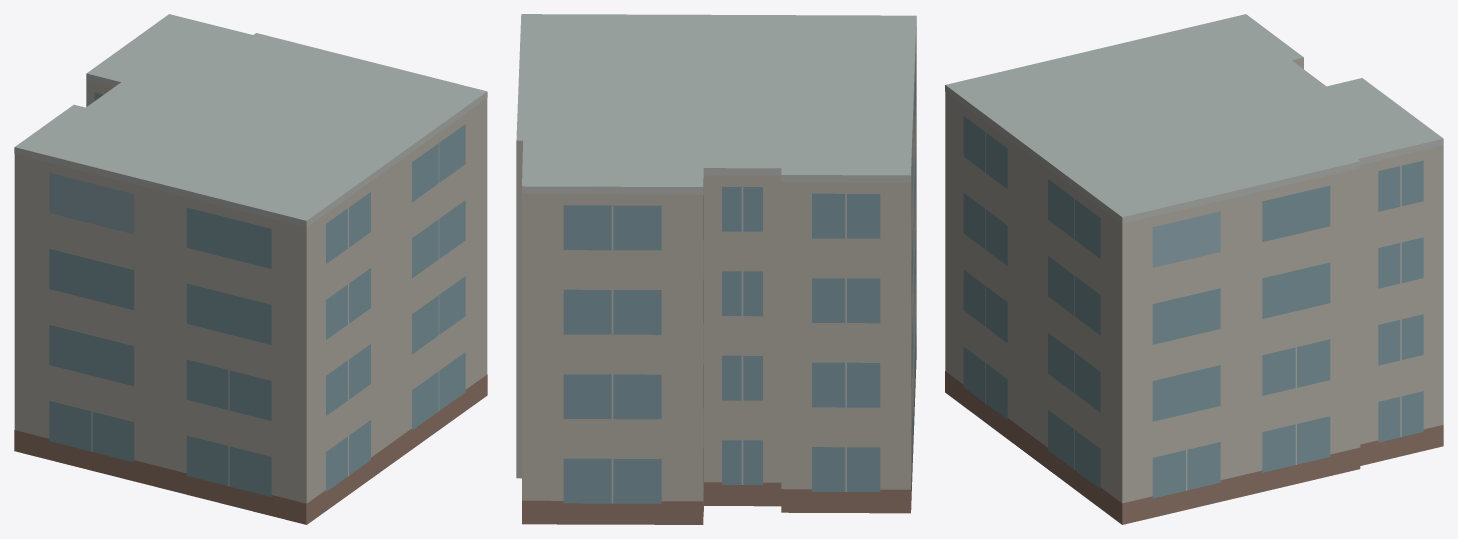
The model's file is survey-upis-32683267.glb.
3 renders of one model, left to right at view 1: azimuth 30°, elevation 25°; view 2: azimuth 150°, elevation 25°; view 3: azimuth 270°, elevation 25°, orthographic. The views are drawn at different scales.
Parts seen in each view (by area): view 1: survey-upis-32683267.tmp; view 2: survey-upis-32683267.tmp; view 3: survey-upis-32683267.tmp.
Boxes of the visible parts, left/top/right/bottom form: survey-upis-32683267.tmp: left=14, top=14, right=487, bottom=524; survey-upis-32683267.tmp: left=516, top=14, right=916, bottom=524; survey-upis-32683267.tmp: left=945, top=14, right=1443, bottom=524.
Bounding box in the file's own units: 15.87 × 11.19 × 16.44.
